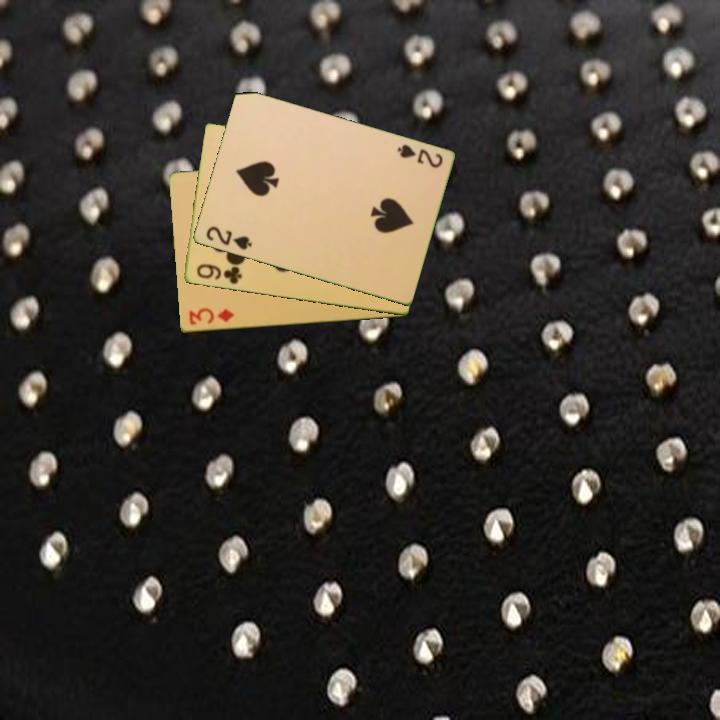2s: (202, 223, 255, 253), (393, 141, 445, 171)
3d: (185, 305, 237, 328)
9c: (193, 260, 245, 287)
